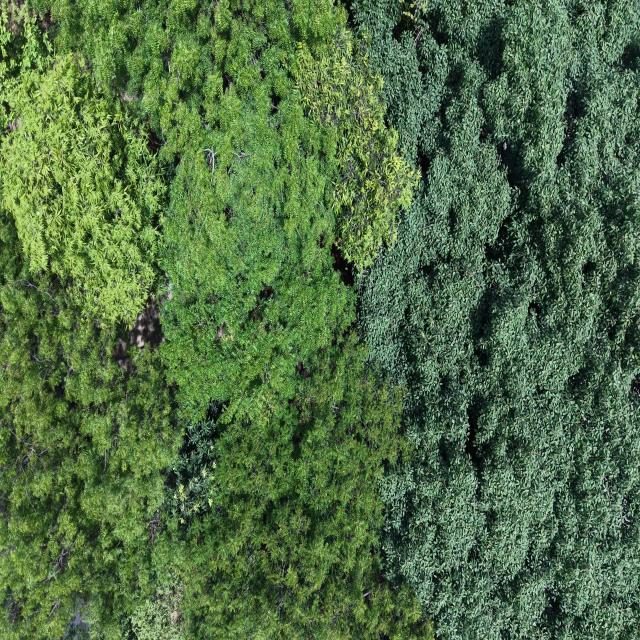VEGETATION_TREE: (0, 0, 639, 639), (2, 2, 430, 638), (352, 0, 639, 639), (160, 3, 419, 638), (0, 5, 179, 638), (58, 0, 416, 269), (158, 339, 428, 639), (0, 212, 178, 638), (0, 54, 165, 324), (295, 31, 419, 271)
